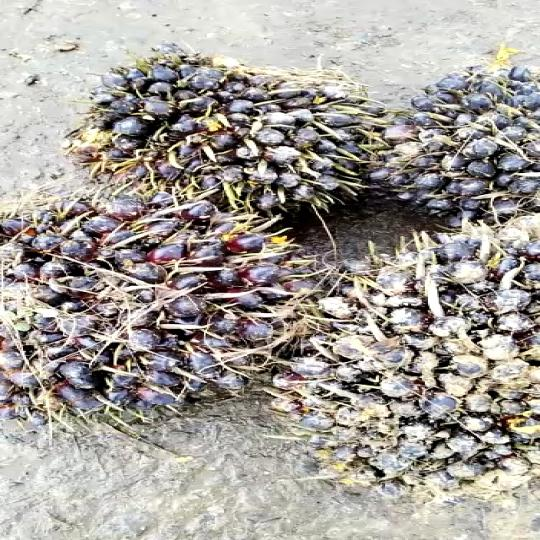mentah: (0, 180, 326, 443), (303, 208, 540, 498), (75, 50, 395, 214), (377, 48, 540, 222)
